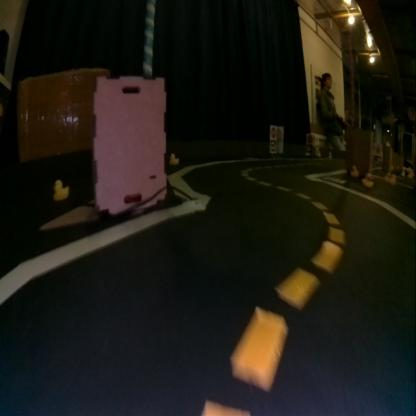Duckie: (53, 180, 68, 200), (361, 174, 372, 186), (168, 152, 178, 164), (350, 165, 358, 176)
QR code: (269, 140, 276, 149)
Stop sign: (270, 126, 276, 138)
